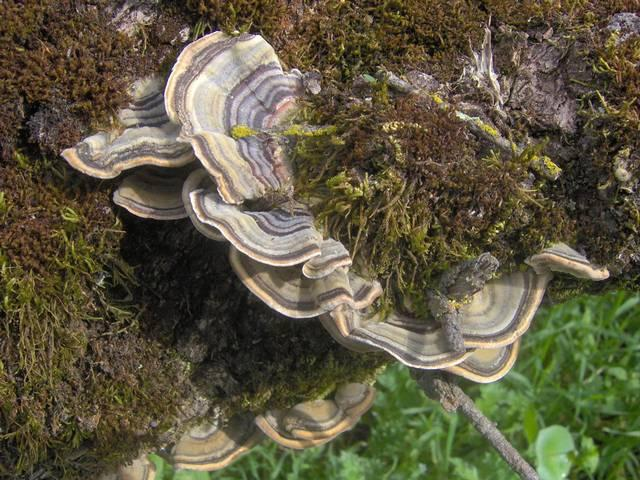poisonous_mushroom: (60, 27, 609, 385)
